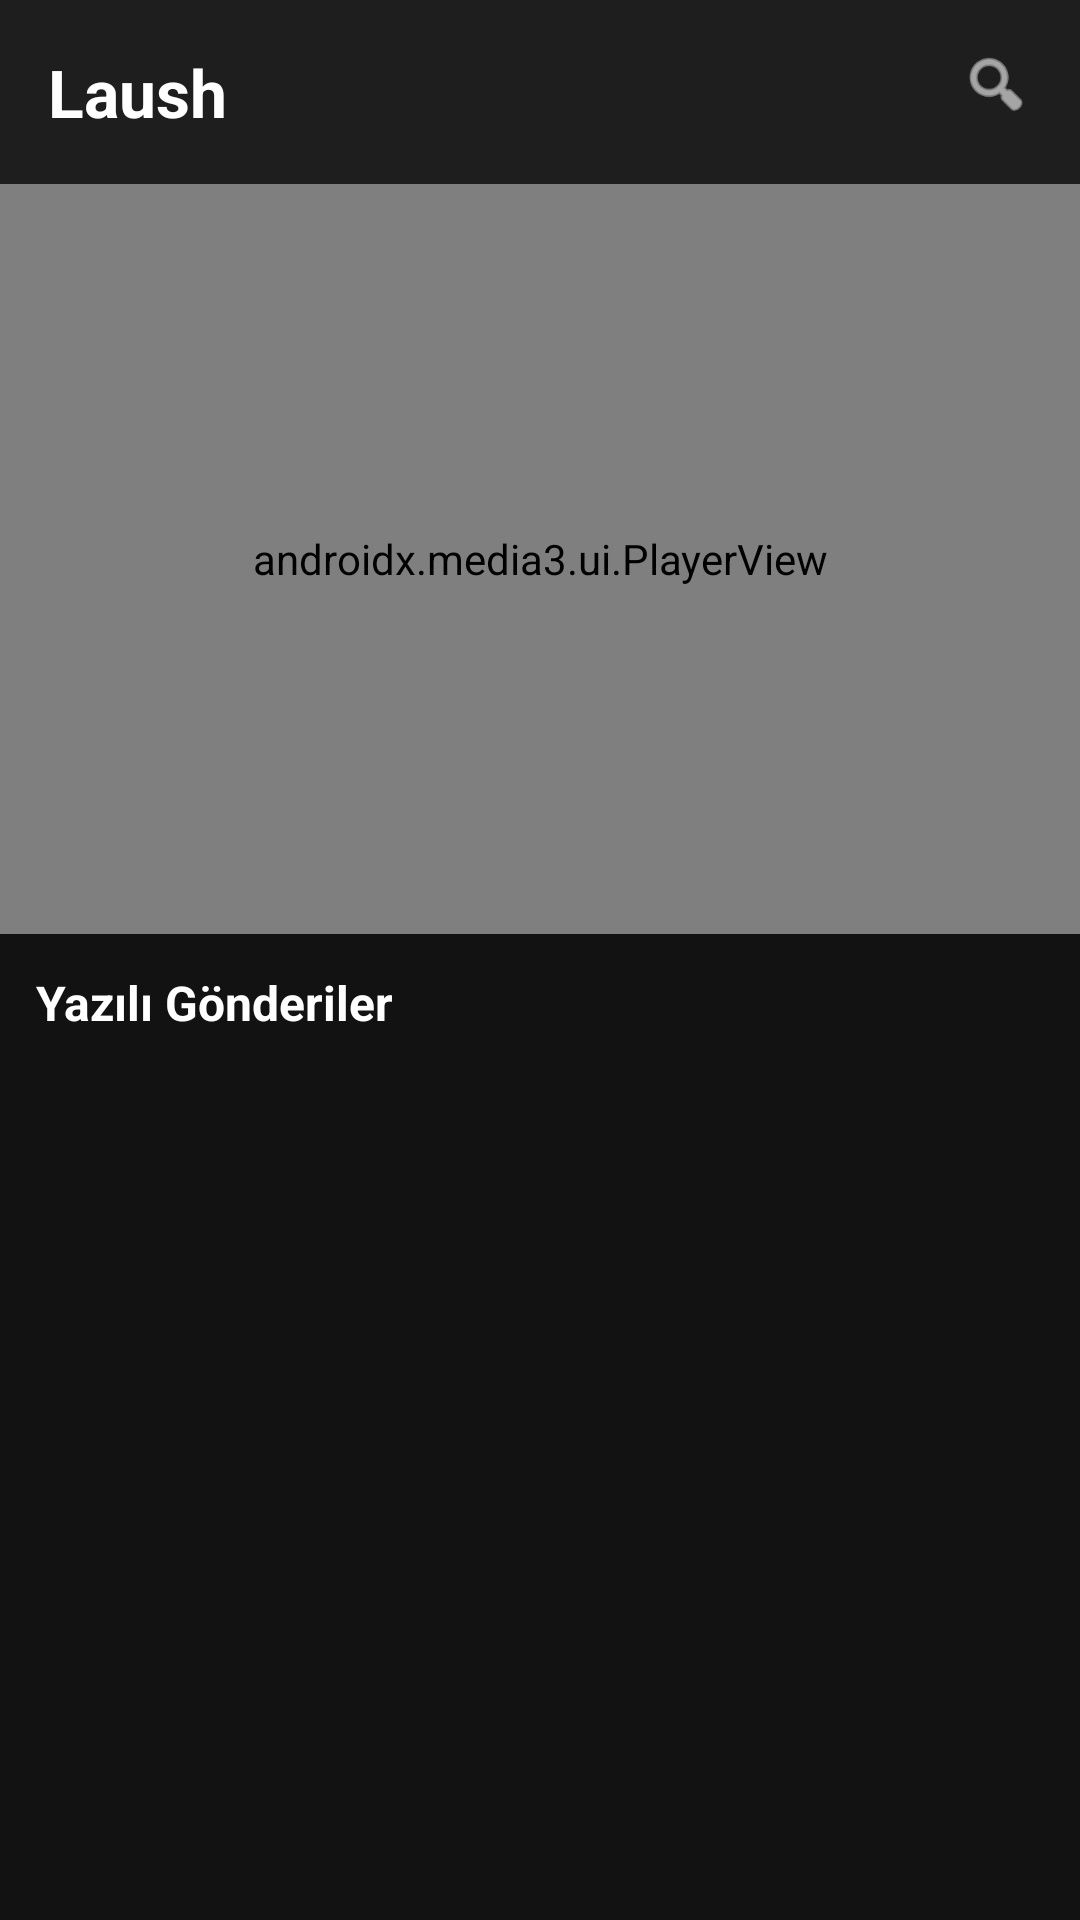

Where to tap for icons on this 1080px x 1920px app screen, as (x,y):
search: (996,84)
